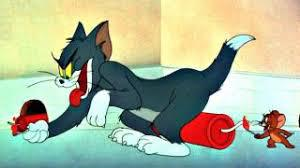tom: (23, 19, 257, 158)
